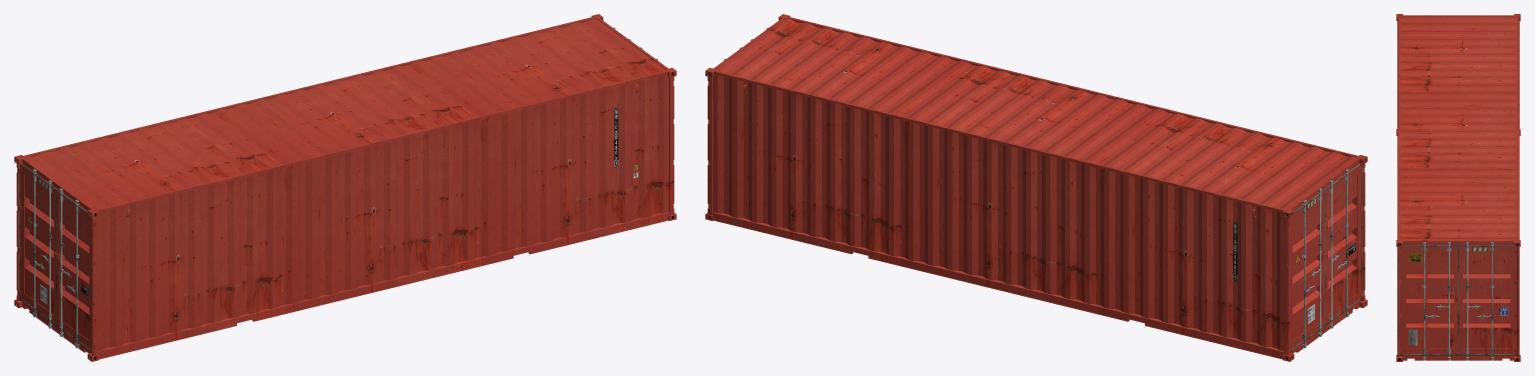
File: 40ft_Container.glb
3 renders of one model, left to right at view 1: azimuth 30°, elevation 25°; view 2: azimuth 150°, elevation 25°; view 3: azimuth 270°, elevation 25°, orthographic. The views are drawn at different scales.
Visible parts, largest first — view 1: ContainerCargo_1, ContainerCargo_2; view 2: ContainerCargo_1, ContainerCargo_2; view 3: ContainerCargo_1, ContainerCargo_2.
Boxes of the visible parts, <box> form: ContainerCargo_1: <box>14,14,676,361</box>; ContainerCargo_2: <box>16,27,673,359</box>; ContainerCargo_1: <box>705,14,1367,361</box>; ContainerCargo_2: <box>708,27,1365,359</box>; ContainerCargo_1: <box>1396,14,1520,361</box>; ContainerCargo_2: <box>1398,242,1518,360</box>.
Size of the model in its own units: 120 by 29 by 27.5.
Materials: 2 (2 with a texture image).
